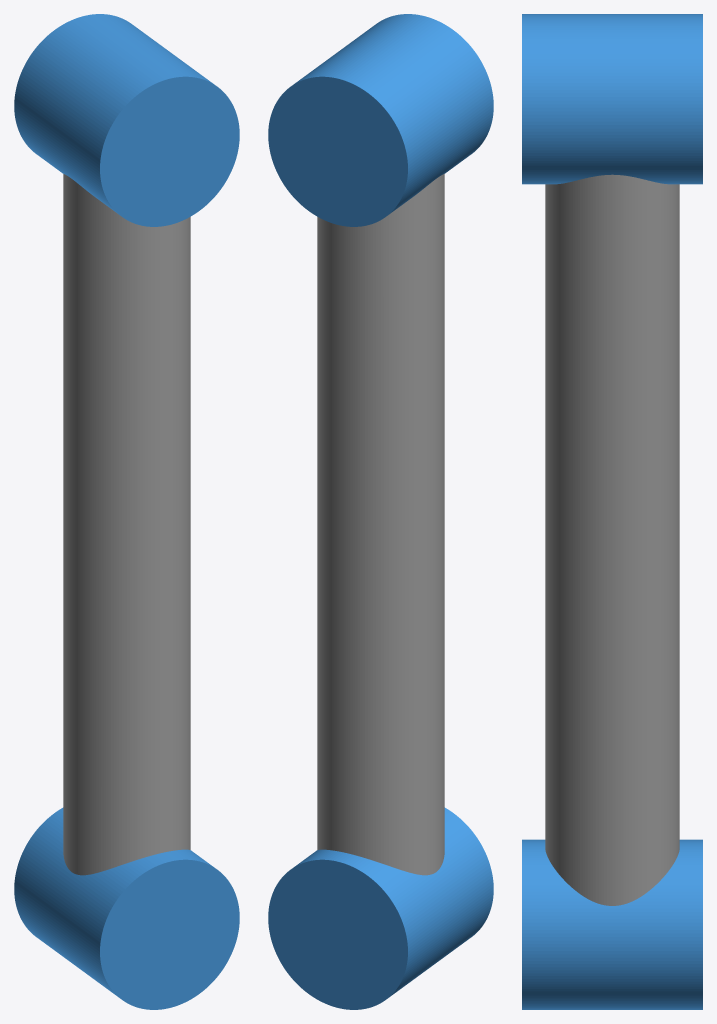
The model's file is arm_link.dae.
3 views of the same model, side by side, from view 1: azimuth 30°, elevation 25°; view 2: azimuth 150°, elevation 25°; view 3: azimuth 270°, elevation 25° (orthographic). The views are drawn at different scales.
Visible parts, largest first — view 1: Cylinder.002; view 2: Cylinder.002; view 3: Cylinder.002.
Part boxes in pixels (x1=…): Cylinder.002: x1=14, y1=14, x2=239, y2=1009; Cylinder.002: x1=268, y1=14, x2=493, y2=1009; Cylinder.002: x1=522, y1=14, x2=702, y2=1009.
Bounding box in the file's own units: 0.00937 × 0.00995 × 0.0595.
